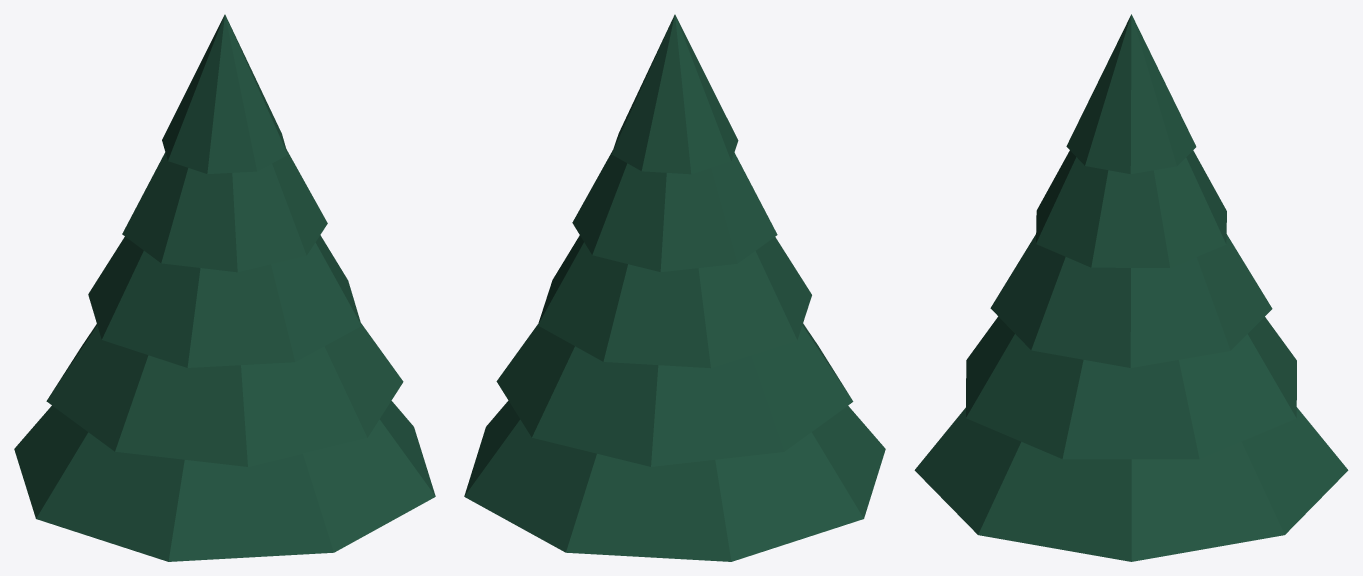
File: pine_wide.fbx
The picture shows the model from 3 angles, left to right: view 1: azimuth 30°, elevation 25°; view 2: azimuth 150°, elevation 25°; view 3: azimuth 270°, elevation 25°; orthographic projection.
Visible parts, largest first — view 1: PineWide; view 2: PineWide; view 3: PineWide.
Part boxes in pixels (<box>): PineWide: <box>14,14,435,561</box>; PineWide: <box>464,14,885,561</box>; PineWide: <box>914,14,1348,561</box>.
Bounding box in the file's own units: 3.9 × 4.52 × 3.9.
